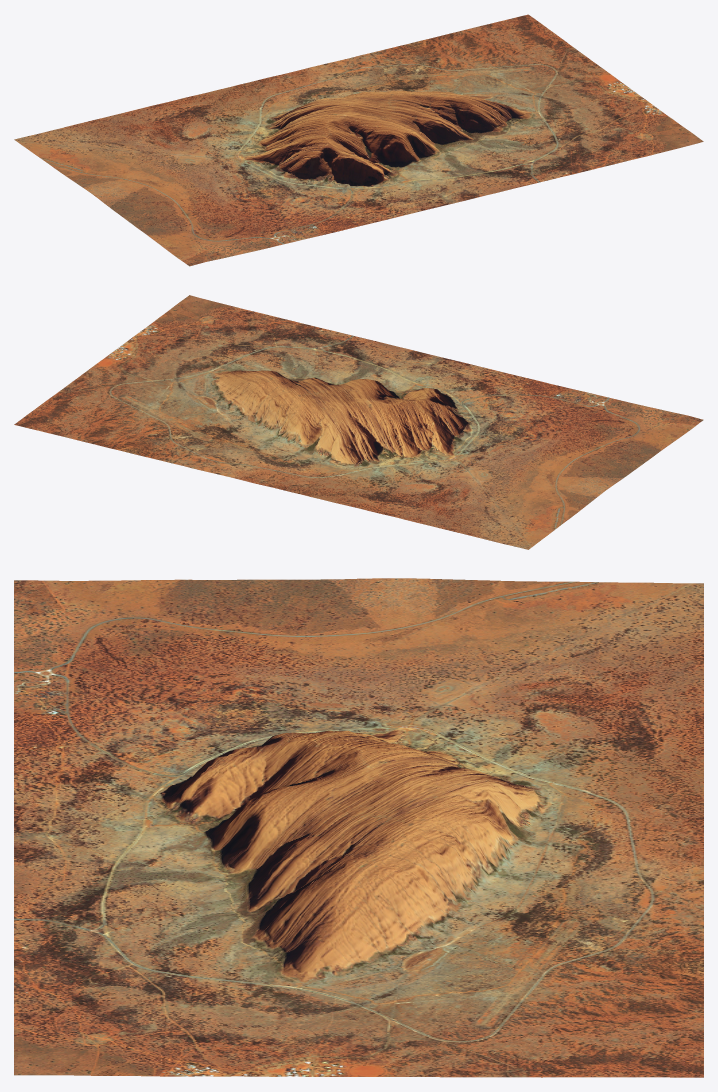
3 renders of one model, top to bottom at view 1: azimuth 30°, elevation 25°; view 2: azimuth 150°, elevation 25°; view 3: azimuth 270°, elevation 25°, orthographic. The views are drawn at different scales.
Visible parts, largest first — view 1: Object_2; view 2: Object_2; view 3: Object_2.
Boxes of the visible parts, x1,y1,x2,y2 form: Object_2: (14, 14, 703, 266); Object_2: (14, 295, 703, 549); Object_2: (14, 578, 703, 1077).
Size of the model in its own units: 6726 by 342 by 3975.
1 material, 1 textured.
